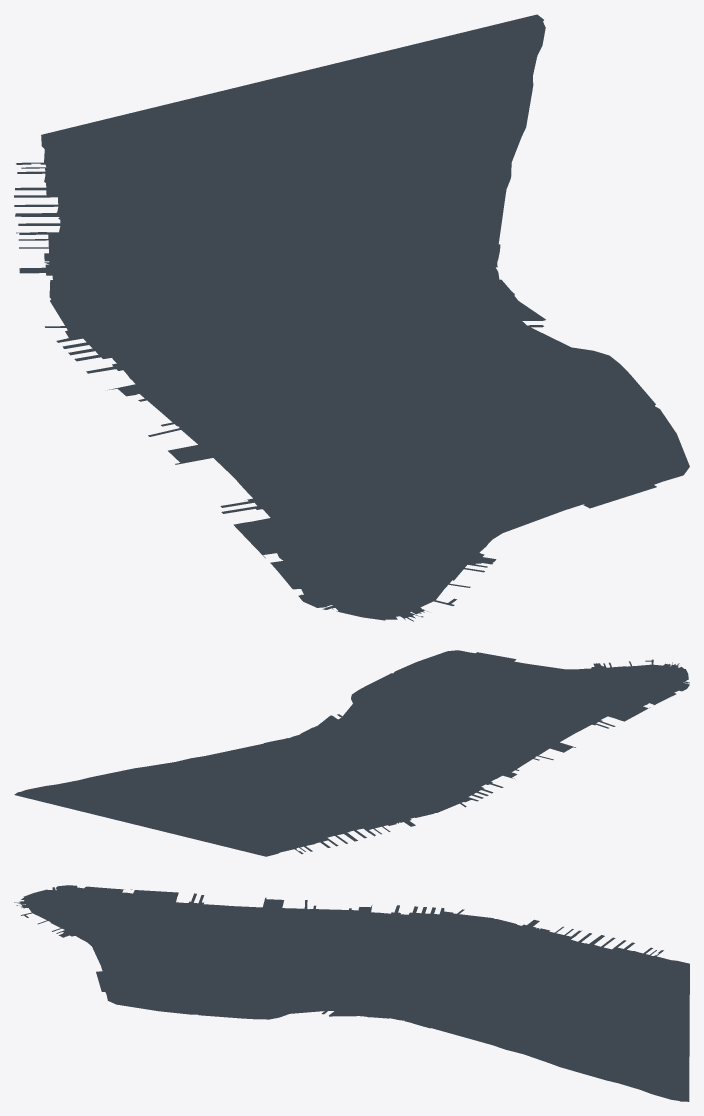
Rendered from continent-transformed.glb.
3 views of the same model, one above another, from view 1: azimuth 30°, elevation 25°; view 2: azimuth 150°, elevation 25°; view 3: azimuth 270°, elevation 25° (orthographic). The views are drawn at different scales.
Parts seen in each view (by area): view 1: path5896; view 2: path5896; view 3: path5896.
Boxes of the visible parts, x1=… form: path5896: x1=14, y1=14, x2=689, y2=621; path5896: x1=14, y1=650, x2=689, y2=856; path5896: x1=14, y1=885, x2=689, y2=1101.
Bounding box in the file's own units: 8586 × 0 × 11319.
